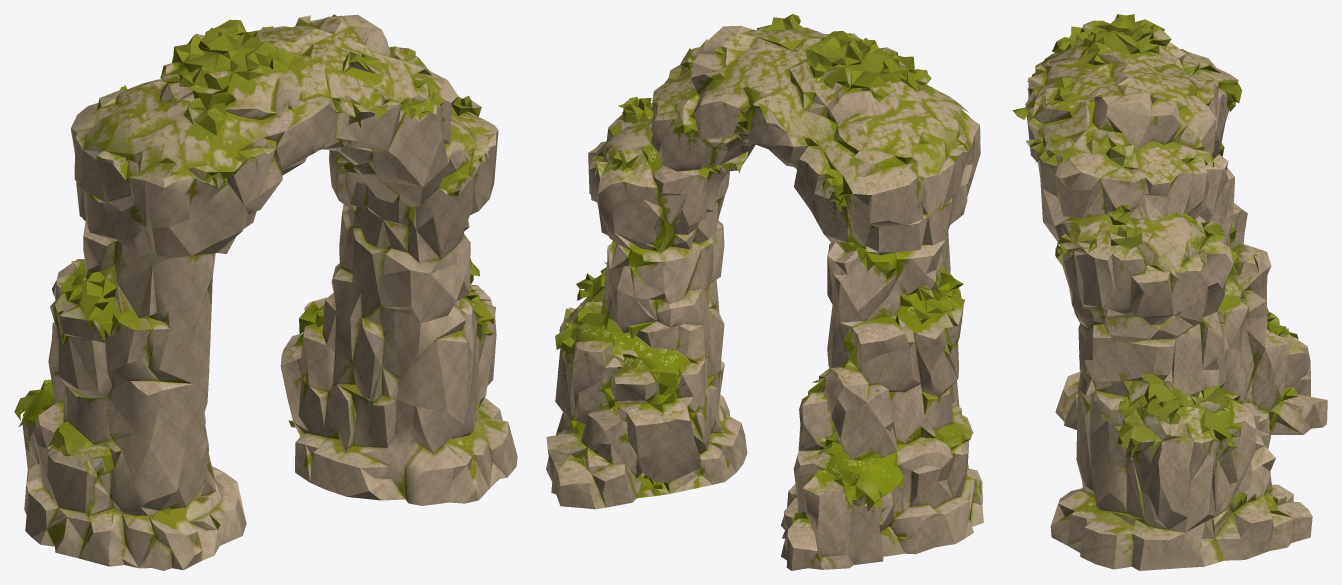
The model's file is rock_arch.glb.
3 views of the same model, side by side, from view 1: azimuth 30°, elevation 25°; view 2: azimuth 150°, elevation 25°; view 3: azimuth 270°, elevation 25° (orthographic). The views are drawn at different scales.
Size of the model in its own units: 1.83 by 1.9 by 1.26.
1 material, 1 textured.
